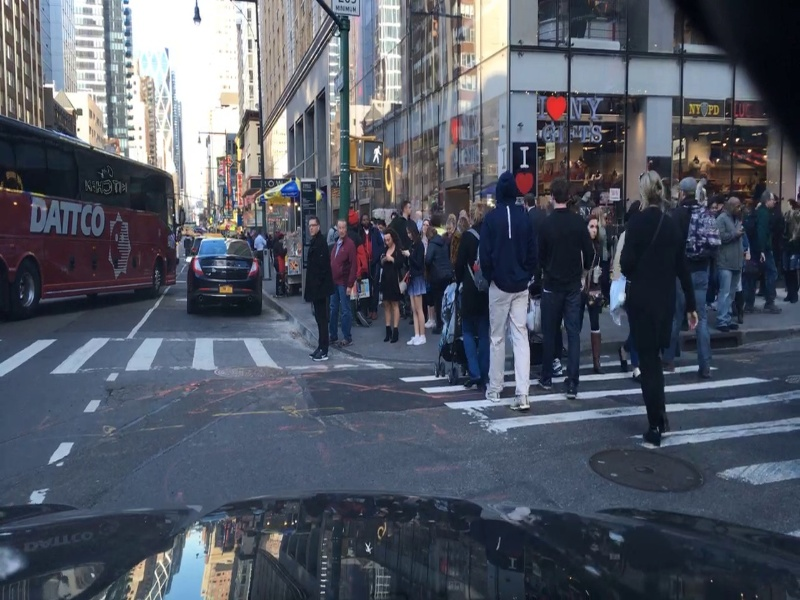bus: (1, 116, 184, 332)
car: (182, 230, 267, 315)
person: (618, 168, 676, 453), (484, 171, 535, 413), (672, 176, 726, 389), (541, 177, 590, 405), (455, 190, 487, 391), (583, 211, 617, 377), (331, 222, 367, 350), (397, 221, 433, 348), (755, 185, 787, 319), (304, 208, 329, 366), (719, 190, 742, 327), (376, 228, 402, 339), (272, 231, 289, 297), (251, 227, 273, 274)
